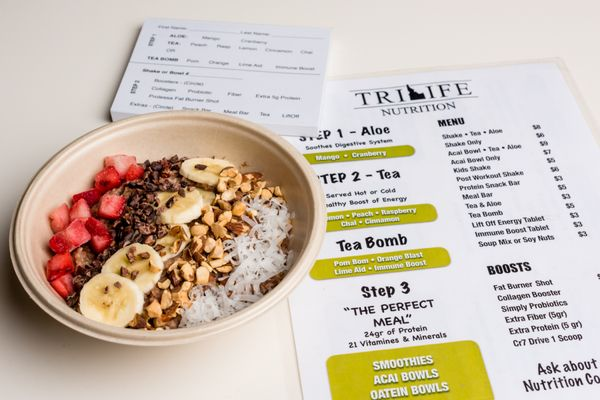sushi: (10, 109, 327, 347)
